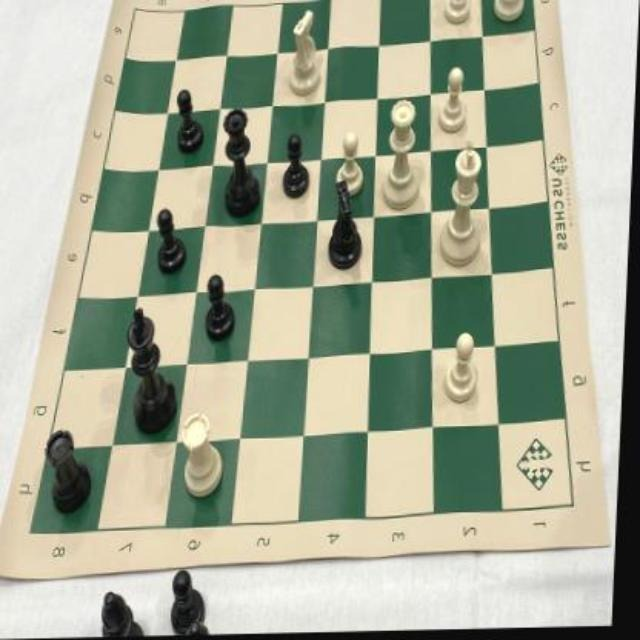black-king: (123, 306, 184, 439)
black-knight: (325, 183, 371, 275)
black-pawn: (153, 207, 193, 277), (205, 271, 241, 344), (280, 132, 315, 204), (174, 88, 207, 156)
black-queen: (218, 104, 268, 224)
black-rook: (47, 422, 96, 517)
white-king: (440, 138, 492, 270)
white-knight: (288, 8, 324, 100)
white-pawn: (448, 333, 488, 409), (437, 67, 473, 137), (334, 131, 369, 198), (442, 0, 474, 27)
white-queen: (379, 100, 429, 216)
white-rook: (184, 407, 231, 502), (487, 0, 528, 30)
